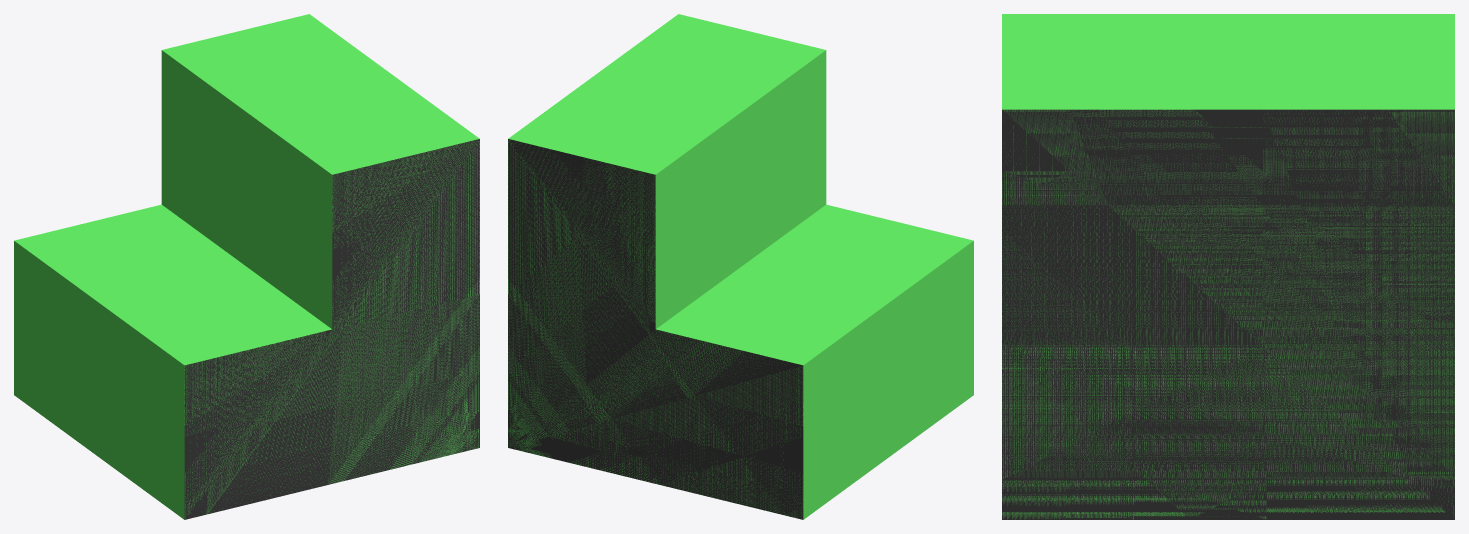
File: diceqiang.dae
3 views of the same model, side by side, from view 1: azimuth 30°, elevation 25°; view 2: azimuth 150°, elevation 25°; view 3: azimuth 270°, elevation 25° (orthographic). The views are drawn at different scales.
Parts seen in each view (by area): view 1: diceqiang (×2); view 2: diceqiang (×2); view 3: diceqiang (×2).
Part boxes in pixels (box(x1,y1,x2,y2)): diceqiang (×2): box(14, 14, 479, 519); diceqiang (×2): box(508, 14, 973, 519); diceqiang (×2): box(1002, 14, 1454, 519).
Bounding box in the file's own units: 39.37 × 39.37 × 39.37.
